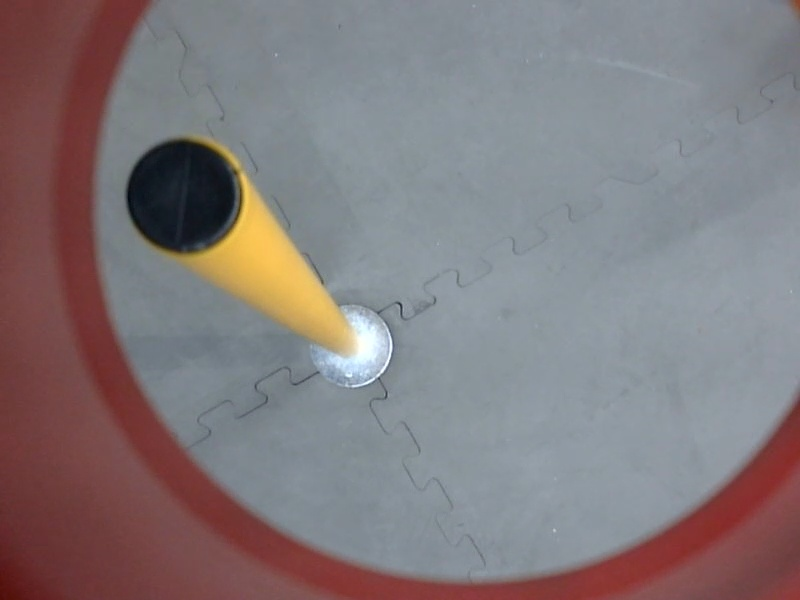tip: (116, 127, 256, 264)
